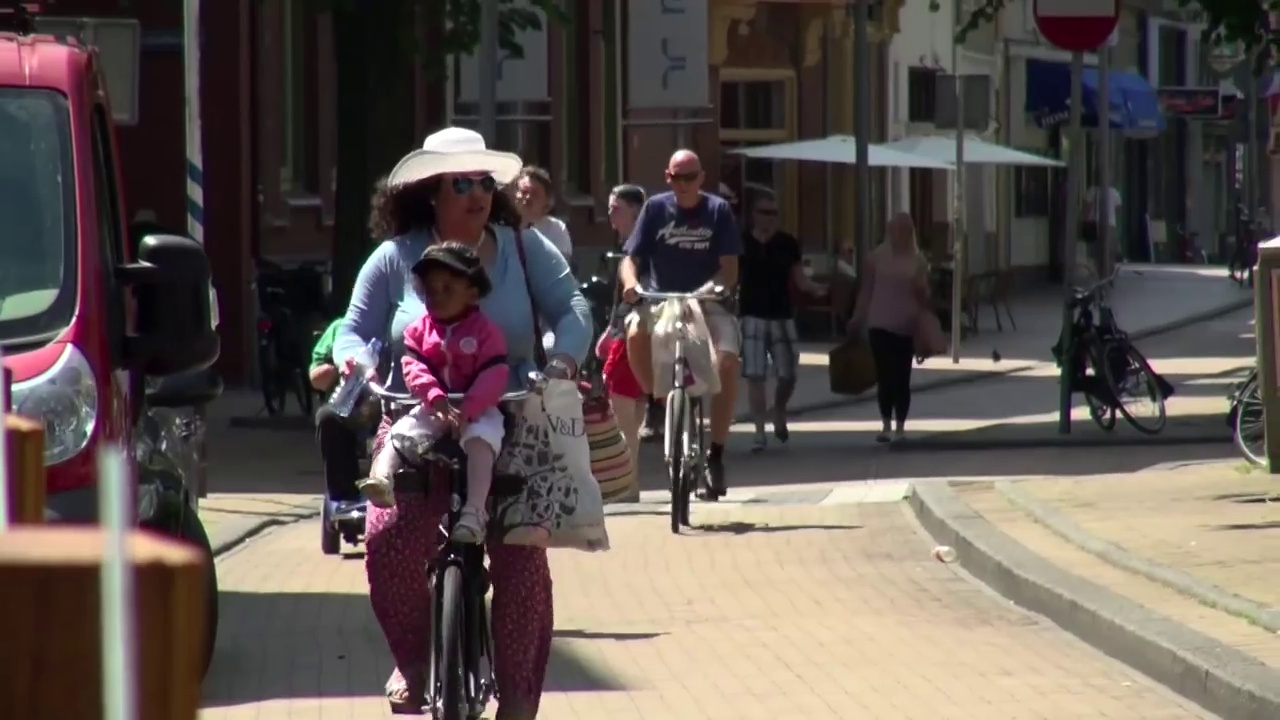cyclist_front: (333, 130, 570, 716), (626, 148, 748, 538)
